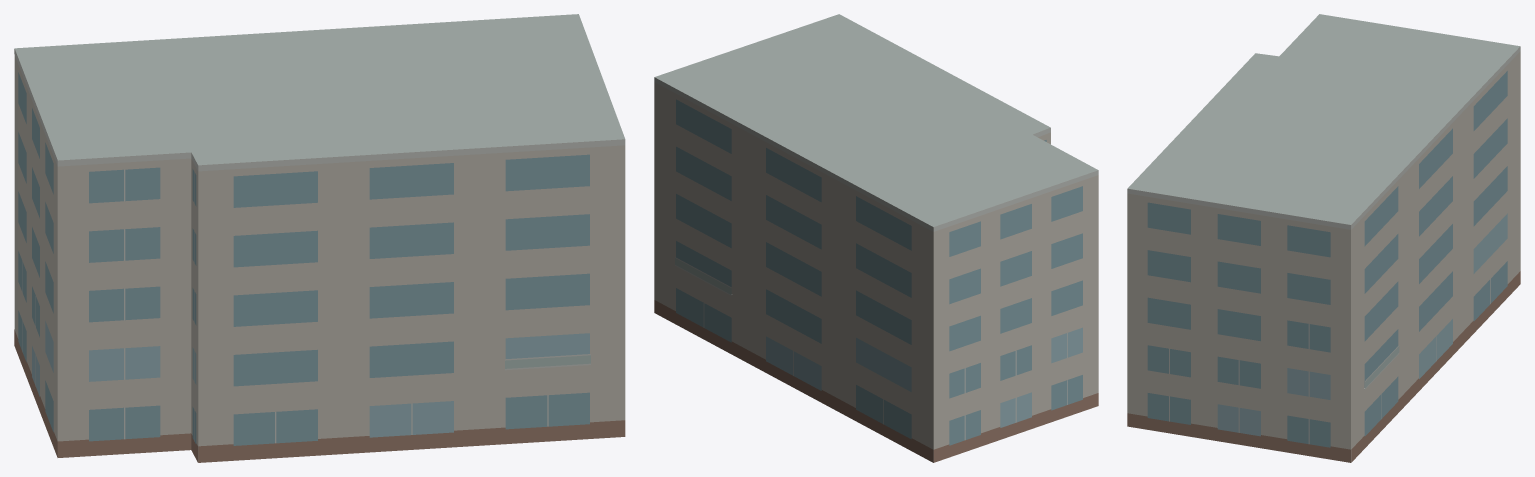
The model's file is survey-upis-33046914.glb.
3 views of the same model, side by side, from view 1: azimuth 30°, elevation 25°; view 2: azimuth 150°, elevation 25°; view 3: azimuth 270°, elevation 25° (orthographic). The views are drawn at different scales.
Parts seen in each view (by area): view 1: survey-upis-33046914.tmp; view 2: survey-upis-33046914.tmp; view 3: survey-upis-33046914.tmp.
Boxes of the visible parts, bbox=[...] form: survey-upis-33046914.tmp: bbox=[14, 14, 625, 462]; survey-upis-33046914.tmp: bbox=[654, 14, 1098, 462]; survey-upis-33046914.tmp: bbox=[1127, 14, 1520, 462].
Size of the model in its own units: 22.84 by 12 by 17.99.
